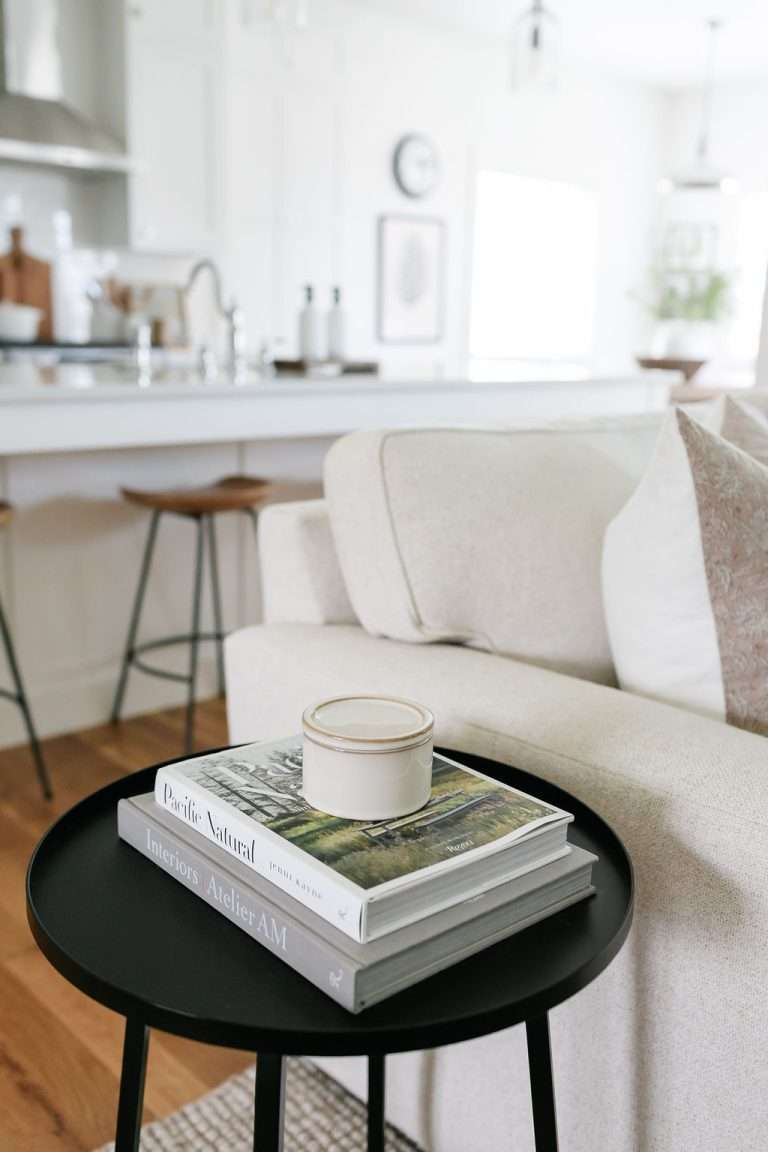not a gesture sign: (259, 500, 357, 623)
